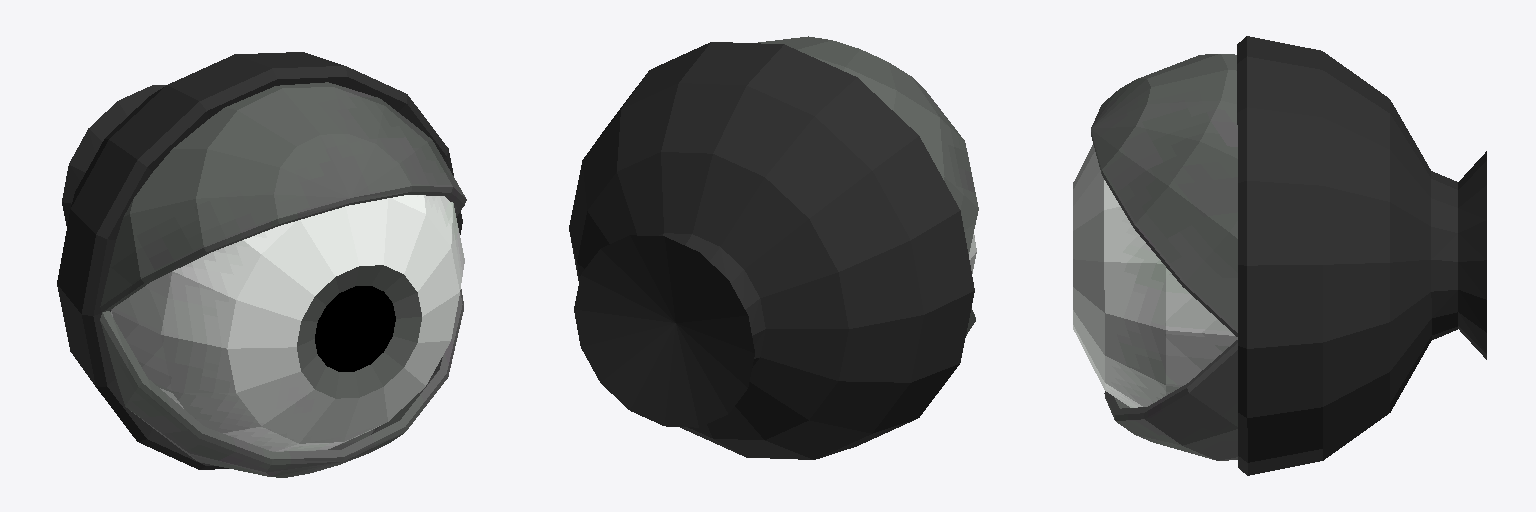
3 views of the same model, side by side, from view 1: azimuth 30°, elevation 25°; view 2: azimuth 150°, elevation 25°; view 3: azimuth 270°, elevation 25° (orthographic).
Parts seen in each view (by area): view 1: default; view 2: default; view 3: default.
Part boxes in pixels (x1,y1,x2,y2): default: (57,52,466,477); default: (569,36,978,459); default: (1073,36,1486,475).
Size of the model in its own units: 57.27 by 57.27 by 53.84.
Materials: 1 (1 with a texture image).